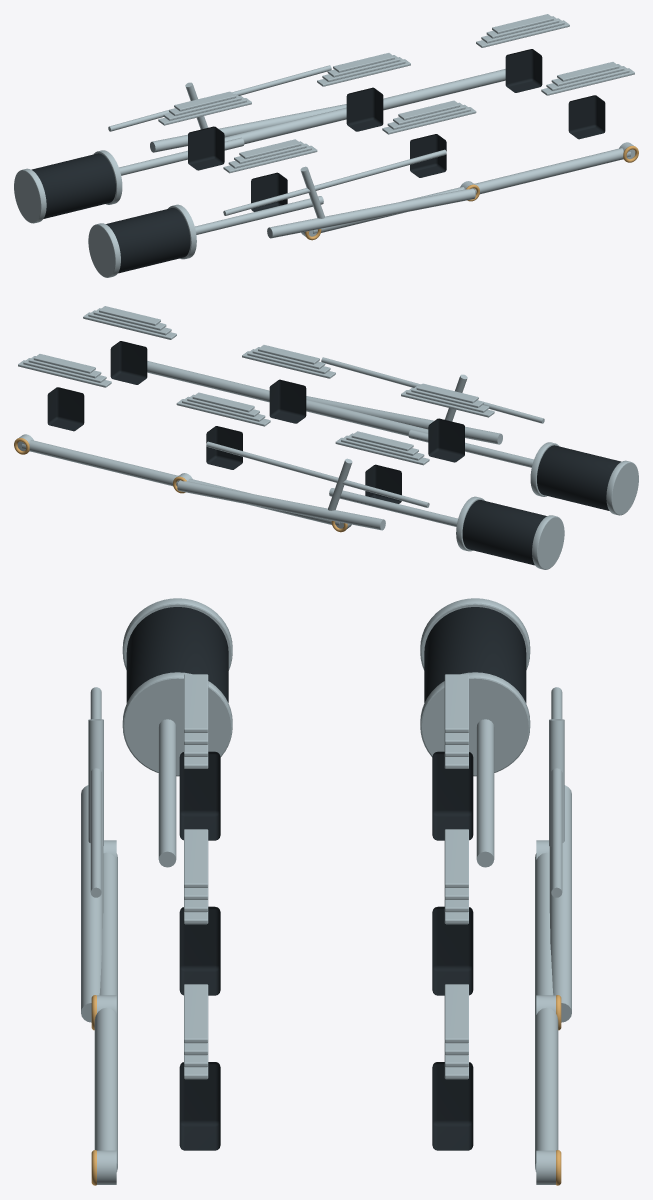
File: valve-gear.glb
3 views of the same model, one above another, from view 1: azimuth 30°, elevation 25°; view 2: azimuth 150°, elevation 25°; view 3: azimuth 270°, elevation 25° (orthographic). The views are drawn at different scales.
Parts seen in each view (by area): view 1: Steam cylinder, Steam cylinder.001, Coupling rod.001, Main connecting rod, Coupling rod, Axle bearing.004, Axle bearing.002, Axle bearing.005, Axle bearing.003, Cylinder end cover, Cylinder end cover.002, Main connecting rod.001 (+21 smaller); view 2: Steam cylinder.001, Steam cylinder, Coupling rod, Main connecting rod.001, Coupling rod.001, Axle bearing.001, Axle bearing.002, Axle bearing.005, Axle bearing, Cylinder end cover.002, Cylinder end cover, Main connecting rod (+21 smaller); view 3: Steam cylinder, Steam cylinder.001, Coupling rod, Coupling rod.001, Cylinder end cover.001, Cylinder end cover.003, Main connecting rod, Main connecting rod.001, Axle bearing.002, Axle bearing.005, Axle bearing, Axle bearing.001 (+16 smaller).
Boxes of the visible parts, bbox=[...] form: Steam cylinder: bbox=[106, 208, 190, 273]; Steam cylinder.001: bbox=[31, 153, 115, 218]; Coupling rod.001: bbox=[224, 69, 505, 144]; Main connecting rod: bbox=[267, 188, 475, 238]; Coupling rod: bbox=[313, 148, 630, 233]; Axle bearing.004: bbox=[346, 87, 383, 131]; Axle bearing.002: bbox=[568, 95, 605, 139]; Axle bearing.005: bbox=[505, 49, 542, 92]; Axle bearing.003: bbox=[188, 126, 224, 170]; Cylinder end cover: bbox=[88, 223, 120, 277]; Cylinder end cover.002: bbox=[14, 168, 46, 223]; Main connecting rod.001: bbox=[150, 104, 346, 152]; Steam cylinder.001: bbox=[462, 500, 546, 565]; Steam cylinder: bbox=[537, 445, 621, 510]; Coupling rod: bbox=[147, 361, 428, 436]; Main connecting rod.001: bbox=[177, 480, 385, 530]; Coupling rod.001: bbox=[22, 440, 339, 525]; Axle bearing.001: bbox=[269, 379, 306, 423]; Axle bearing.002: bbox=[110, 341, 147, 384]; Axle bearing.005: bbox=[47, 387, 84, 431]; Axle bearing: bbox=[428, 418, 464, 462]; Cylinder end cover.002: bbox=[532, 515, 564, 569]; Cylinder end cover: bbox=[606, 460, 638, 515]; Main connecting rod: bbox=[306, 396, 502, 444]; Steam cylinder: bbox=[126, 607, 228, 702]; Steam cylinder.001: bbox=[424, 607, 526, 702]; Coupling rod: bbox=[94, 852, 117, 1171]; Coupling rod.001: bbox=[535, 852, 558, 1171]; Cylinder end cover.001: bbox=[122, 672, 232, 776]; Cylinder end cover.003: bbox=[420, 672, 530, 776]; Main connecting rod: bbox=[81, 785, 103, 1022]; Main connecting rod.001: bbox=[549, 785, 571, 1022]; Axle bearing.002: bbox=[179, 1062, 220, 1150]; Axle bearing.005: bbox=[432, 1062, 473, 1150]; Axle bearing: bbox=[179, 751, 220, 840]; Axle bearing.001: bbox=[179, 906, 220, 995].
Bounding box in the file's own units: 6.06 × 0.8935 × 2.41.
